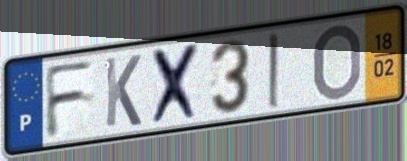3: (208, 37, 252, 117)
F: (42, 56, 98, 142)
I: (266, 30, 283, 112)
K: (103, 52, 143, 130)
O: (310, 21, 363, 103)
X: (149, 39, 204, 129)
